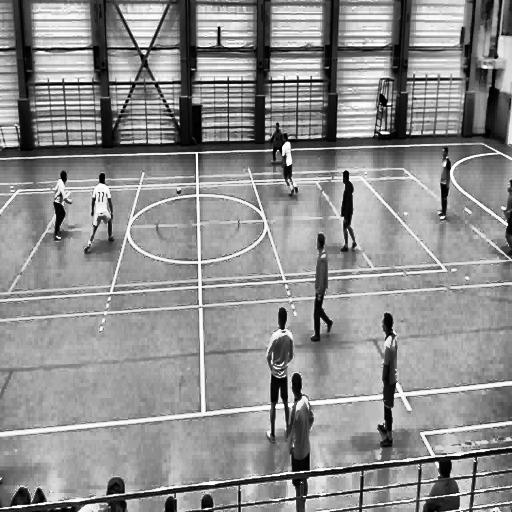ball: (176, 184, 183, 196)
player: (287, 374, 316, 512), (264, 306, 292, 446), (374, 312, 397, 452), (310, 227, 334, 345), (85, 172, 118, 256), (338, 168, 360, 256), (52, 169, 74, 244), (281, 134, 299, 202), (438, 144, 452, 222), (501, 179, 512, 263), (268, 122, 284, 168)
